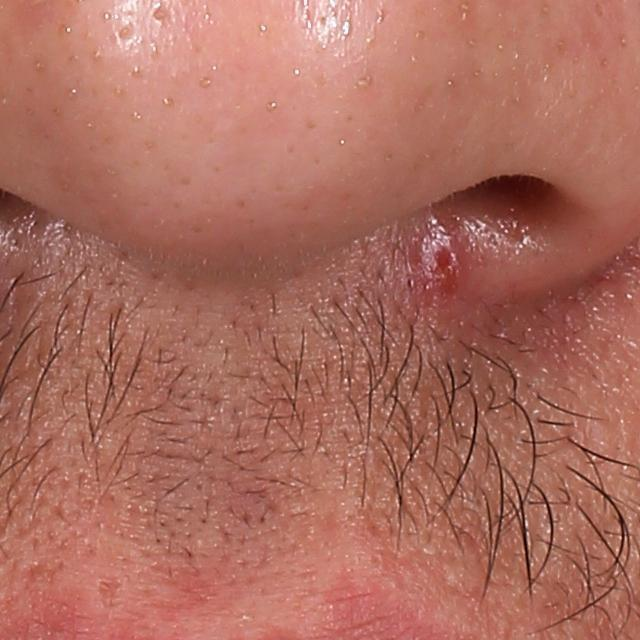atrophic_scar: (97, 575, 125, 613)
papule: (414, 225, 469, 297)
